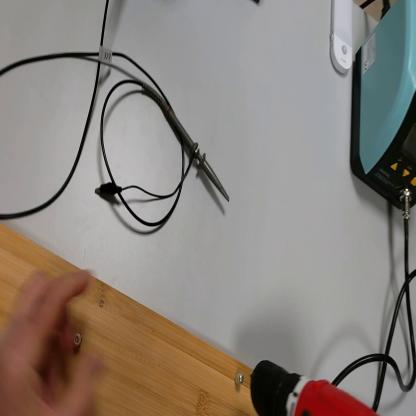electric screwdriver: (251, 360, 381, 414)
hand: (2, 259, 109, 415)
oscilloscope probe tip: (146, 86, 232, 203)
welder station: (351, 1, 416, 219)
working area: (1, 226, 254, 416)
